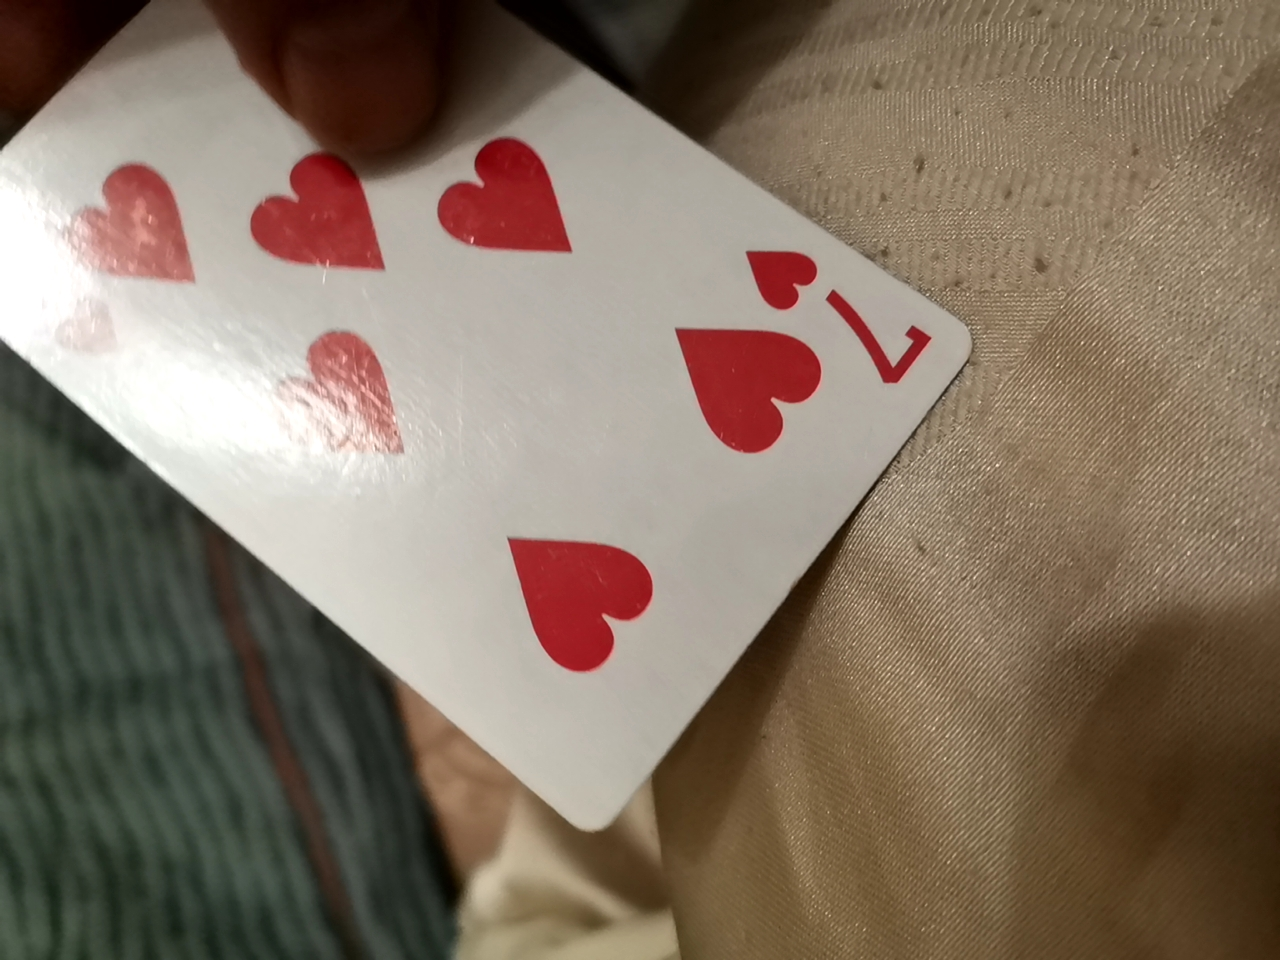hx 7: (47, 25, 982, 879)
